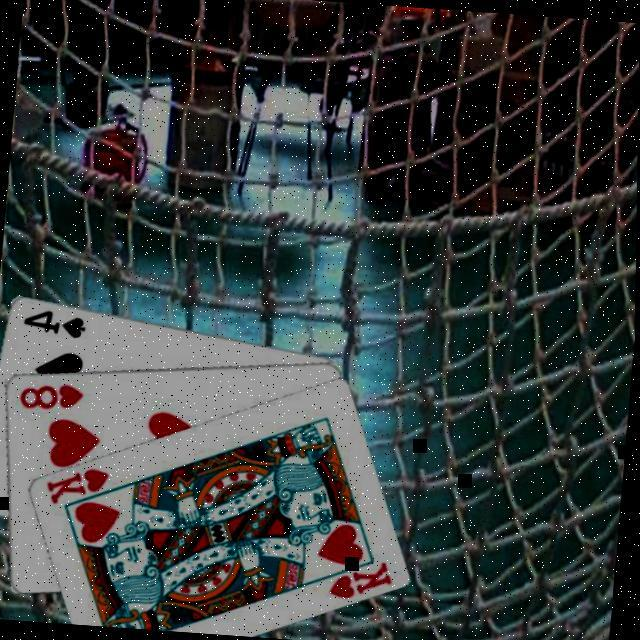4S: (21, 302, 91, 340)
8H: (18, 375, 88, 413)
KH: (327, 552, 398, 602), (43, 459, 115, 508)
